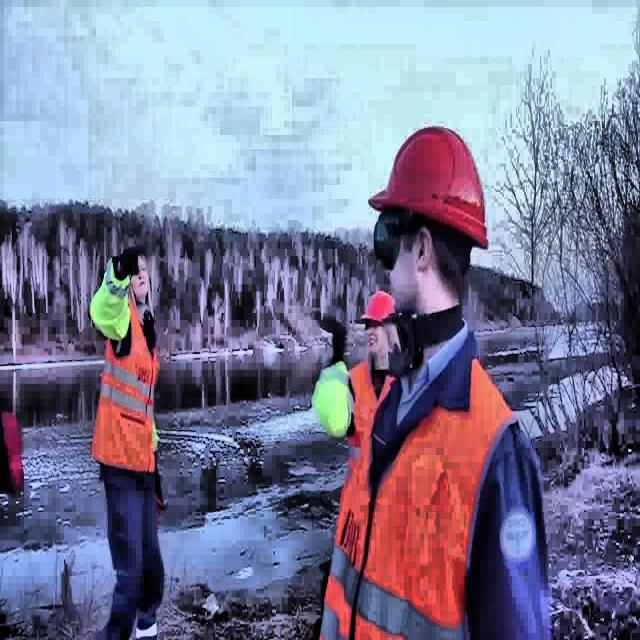safety_helmet: (372, 122, 491, 250), (361, 287, 395, 331)
safety_jacket: (318, 361, 528, 640), (94, 317, 160, 476), (346, 356, 388, 445), (314, 352, 352, 446), (90, 262, 132, 341)
